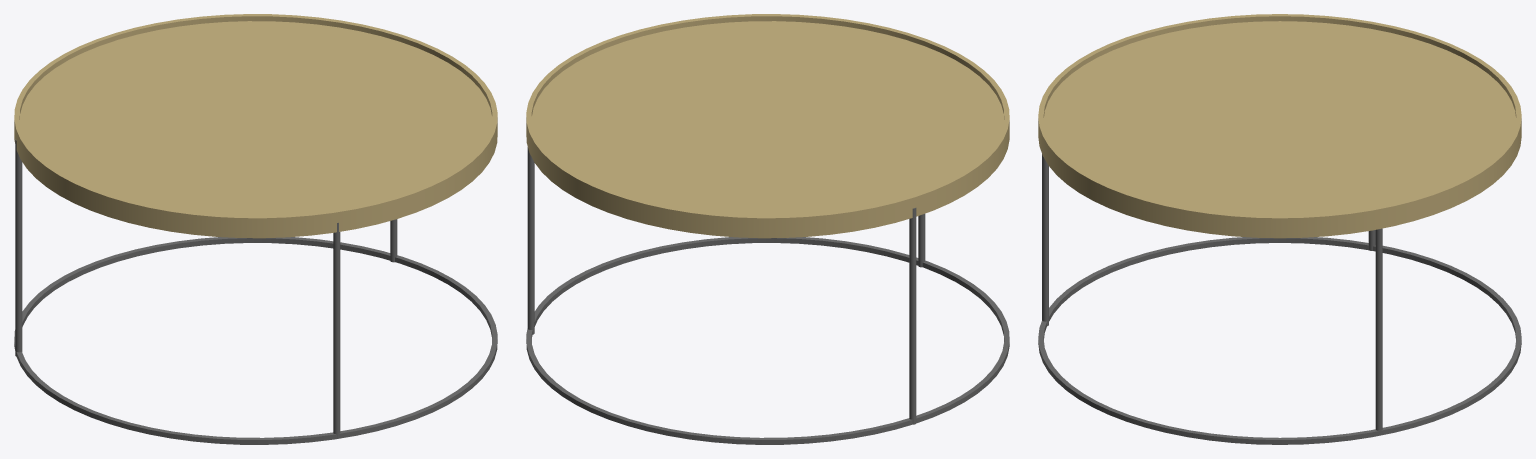
3 renders of one model, left to right at view 1: azimuth 30°, elevation 25°; view 2: azimuth 150°, elevation 25°; view 3: azimuth 270°, elevation 25°, orthographic.
Parts seen in each view (by area): view 1: tray_table; view 2: tray_table; view 3: tray_table.
Boxes of the visible parts, x1,y1,x2,y2 form: tray_table: (14,14,497,444); tray_table: (526,14,1009,444); tray_table: (1038,14,1521,444).
Size of the model in its own units: 0.8999 by 0.4655 by 0.8999.
